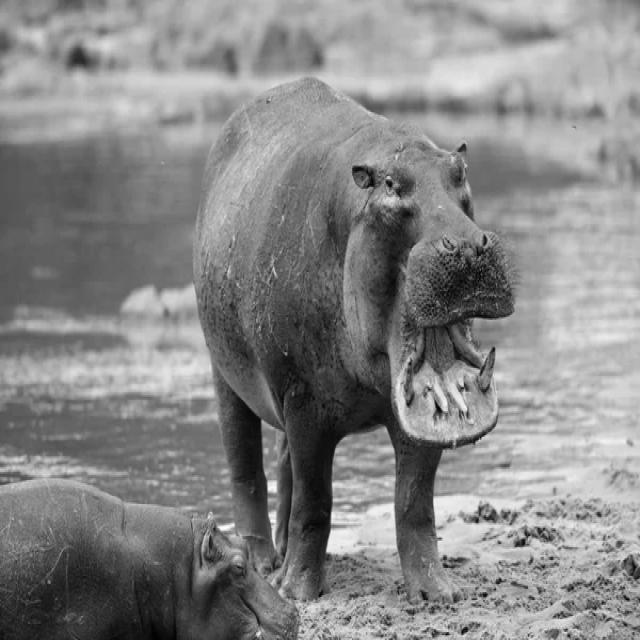Animal: (194, 77, 515, 604), (0, 480, 298, 640)
